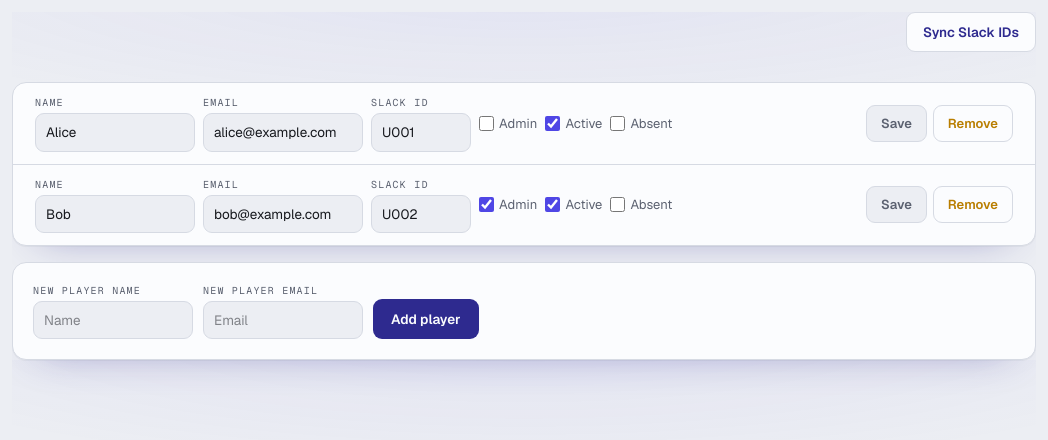
Test: RosterManager: Add player › shows an error alert and does not throw when the add-player response is not ok
The width and height of the screenshot is (1048, 440).
Type "Bad Player" into the field labelled "New player name" at x=113, y=320, box [33,301,193,339]
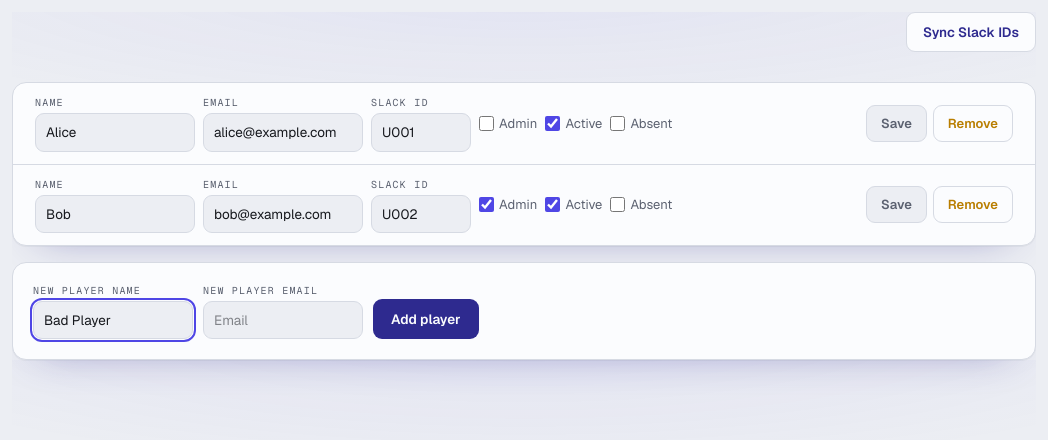
Click the button "Add player" at x=426, y=319, box [373,299,478,339]
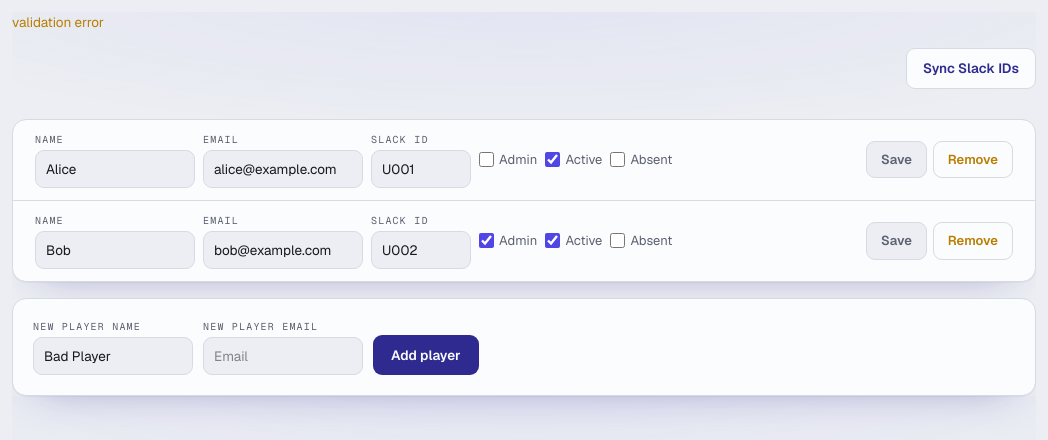
Now the message "validation error" is shown, box [12,13,104,31]
